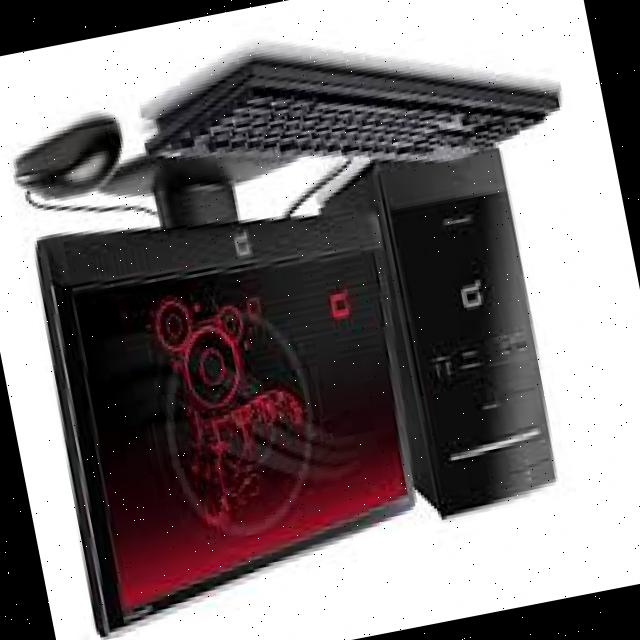Computer: (351, 132, 574, 526)
Monitor: (6, 186, 452, 640)
